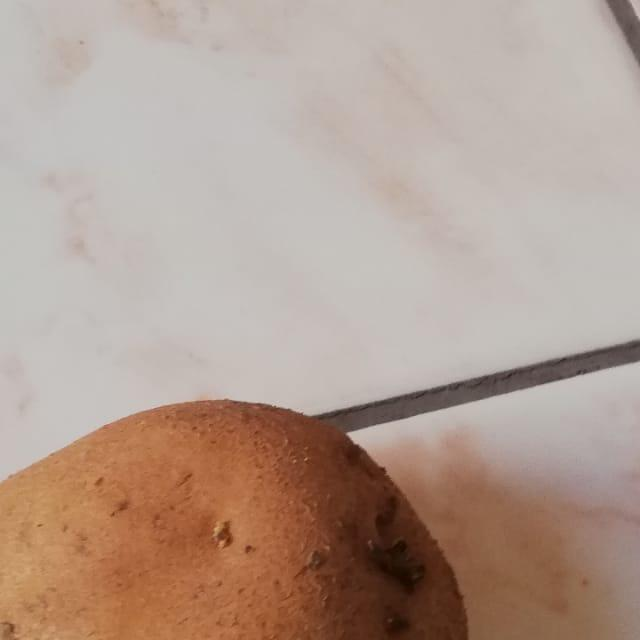potato: (0, 379, 492, 640)
